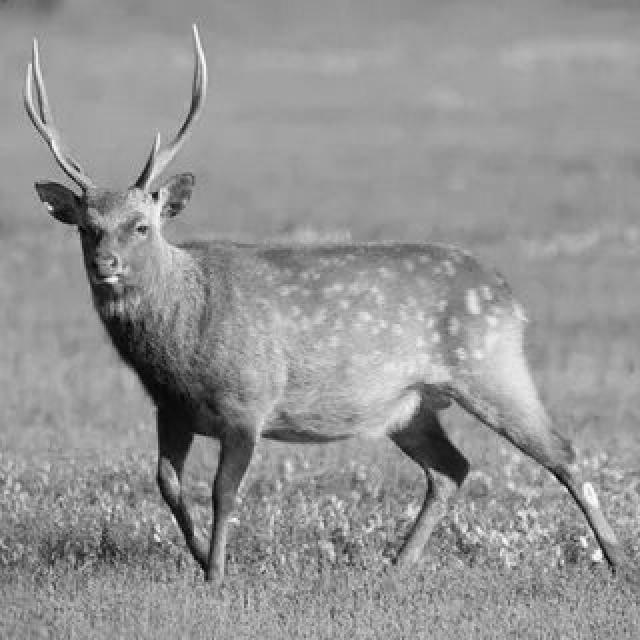Deer: (46, 106, 638, 622)
